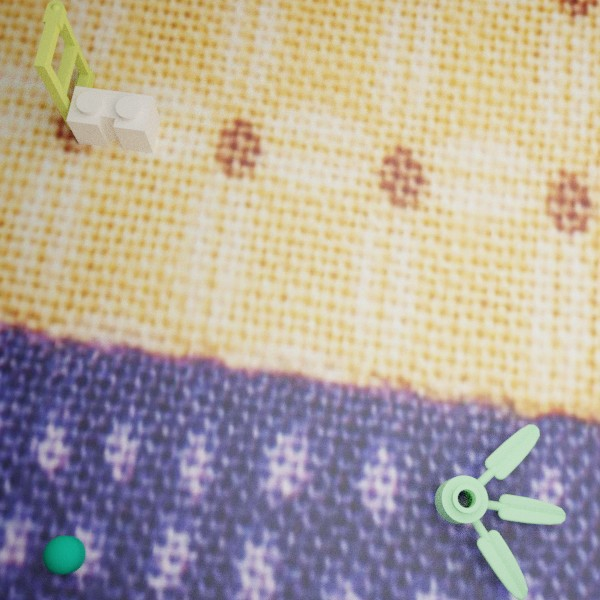lego: (434, 424, 565, 600), (33, 0, 94, 130), (66, 86, 160, 153), (42, 535, 85, 574)
